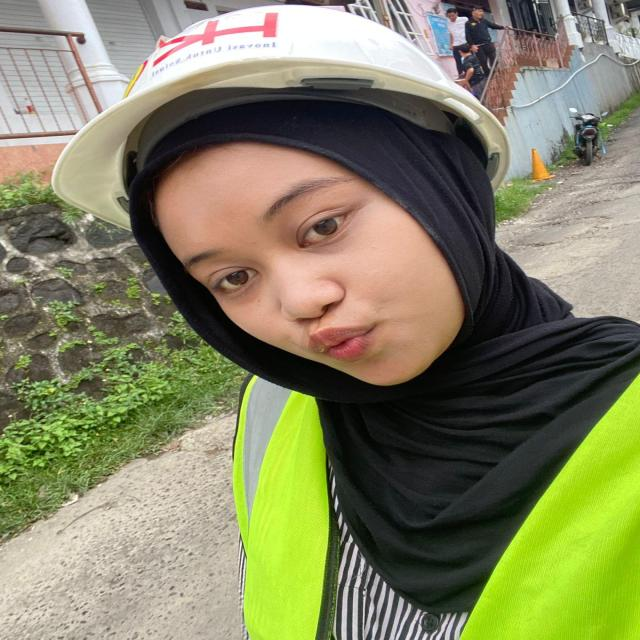safetyhelmet: (34, 1, 530, 394)
